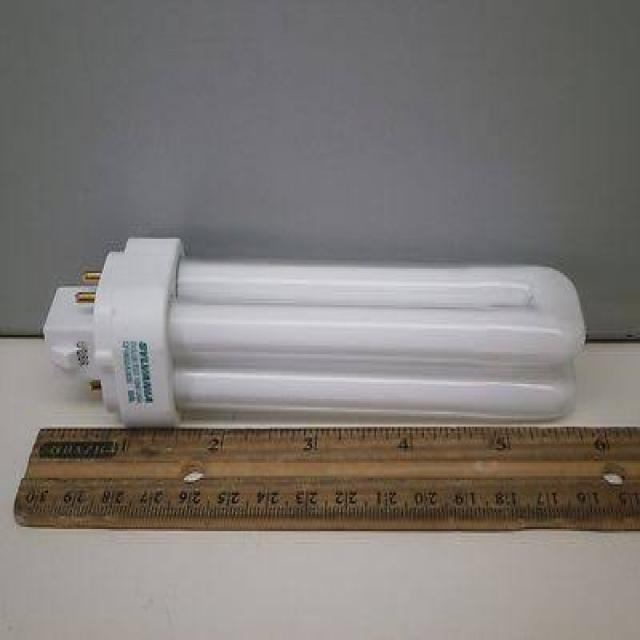bulb: (33, 200, 632, 424)
